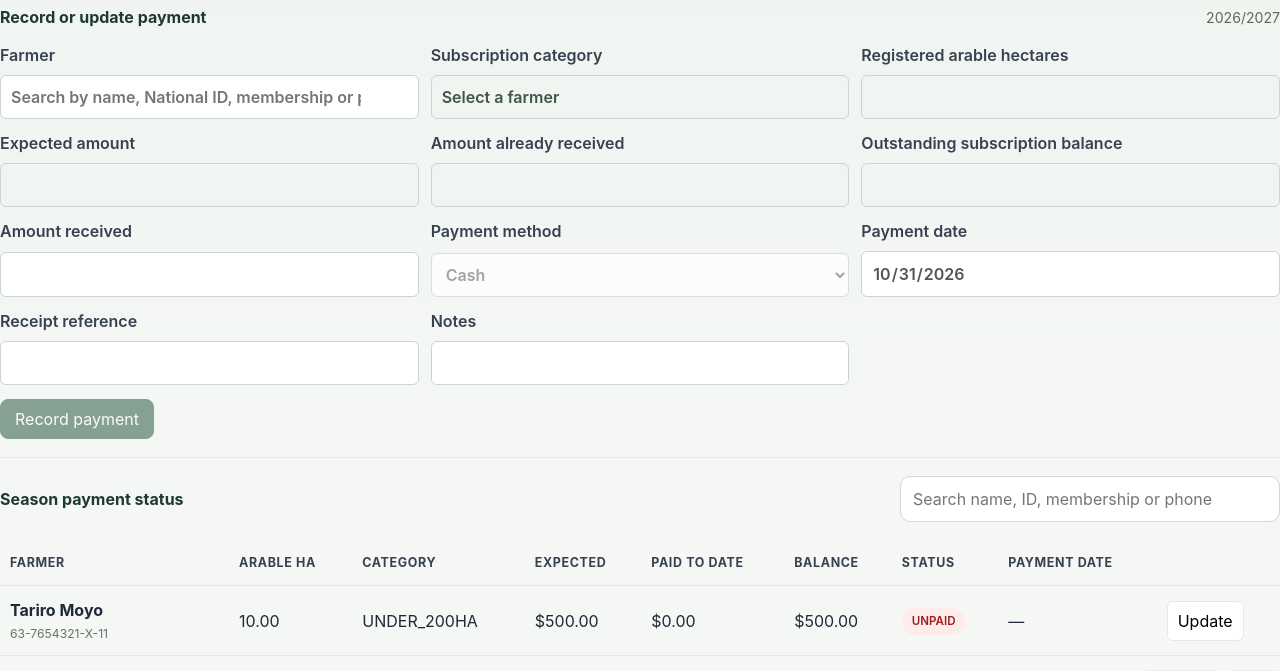
Test: SubscriptionsPage › shows derived liability and records a dated cumulative payment
(page scrolled)
Expected: the text "UNPAID" is shown, [902,608,966,635]
Expected: the field labelled "Expected amount" is empty, [0,163,419,207]
Click the button "Update" at [1205, 621], box [1167,601,1244,641]
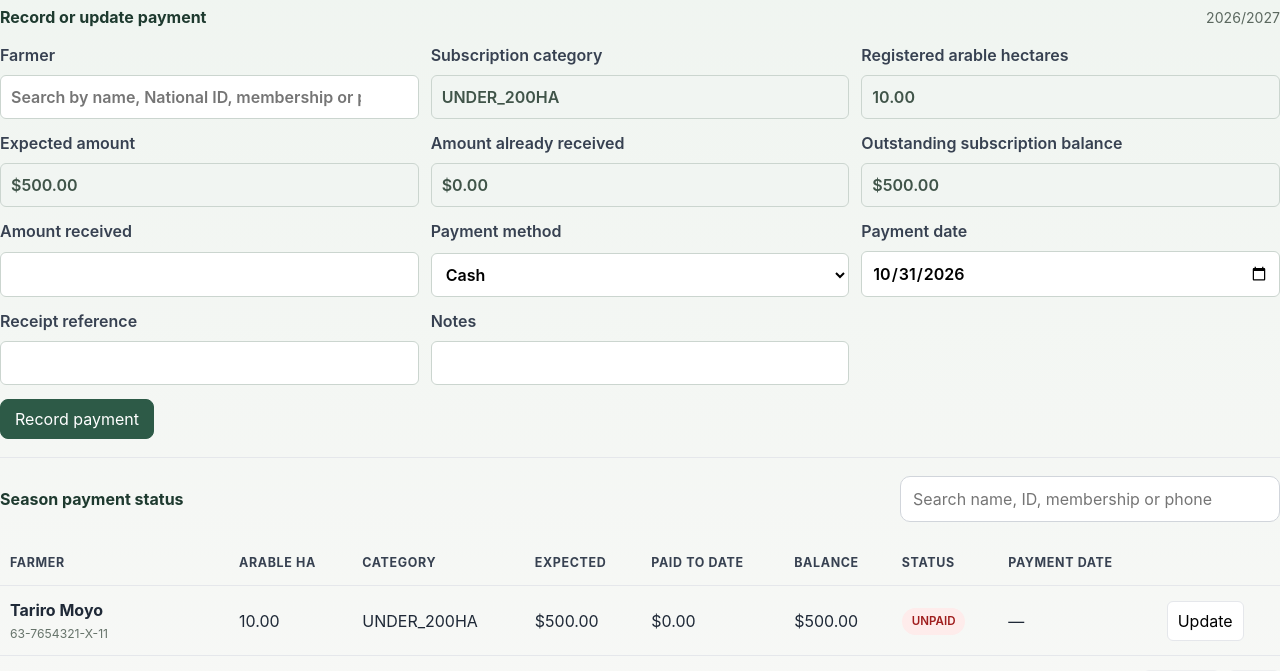
Now the field labelled "Expected amount" holds "$500.00", box [0,163,419,207]
Now the field labelled "Outstanding subscription balance" holds "$500.00", box [861,163,1279,207]
Type "120.00" into the number field labelled "Amount received" at [209, 275], box [0,252,419,297]
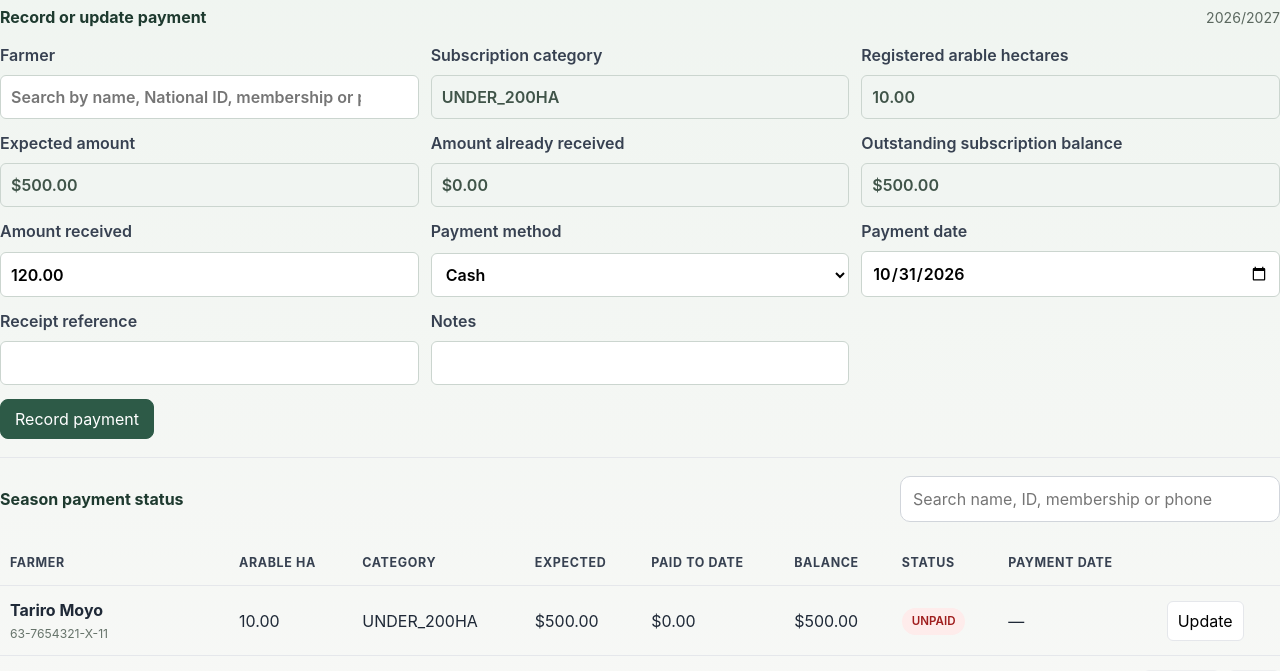
Select "Bank" in the dropdown labelled "Payment method" at [640, 275], box [431,253,849,297]
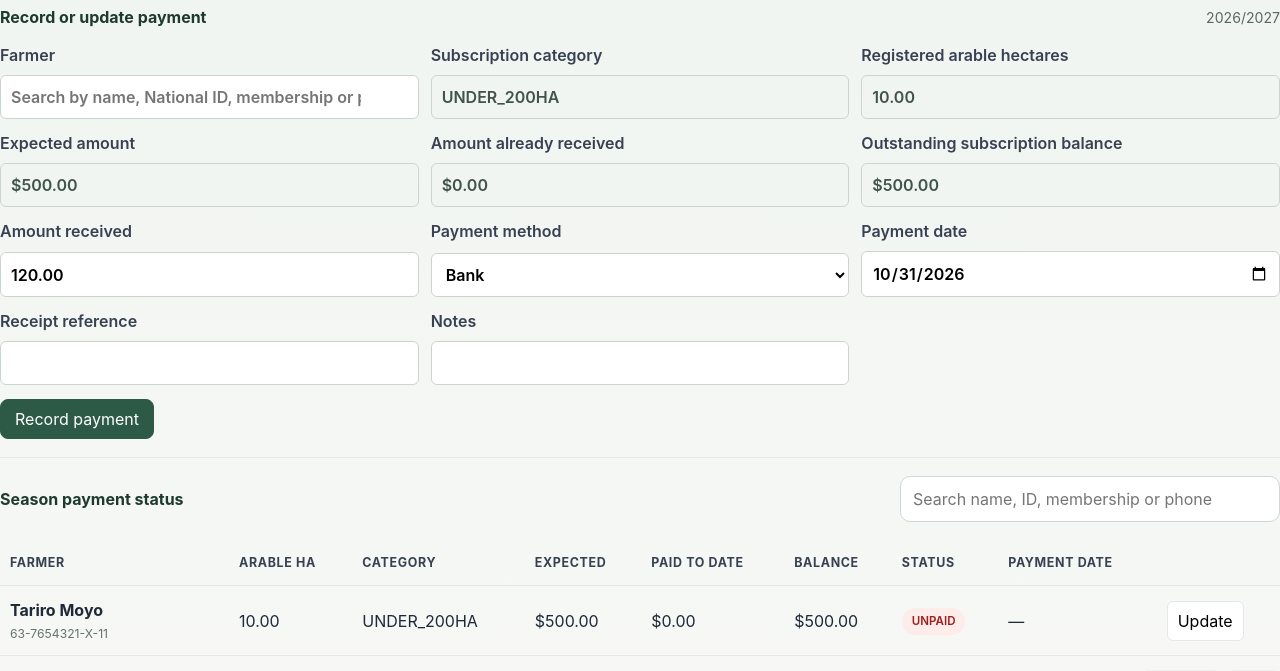
Type "2026-08-10" into the date field labelled "Payment date" at [1071, 274], box [861,251,1279,297]
(page scrolled)
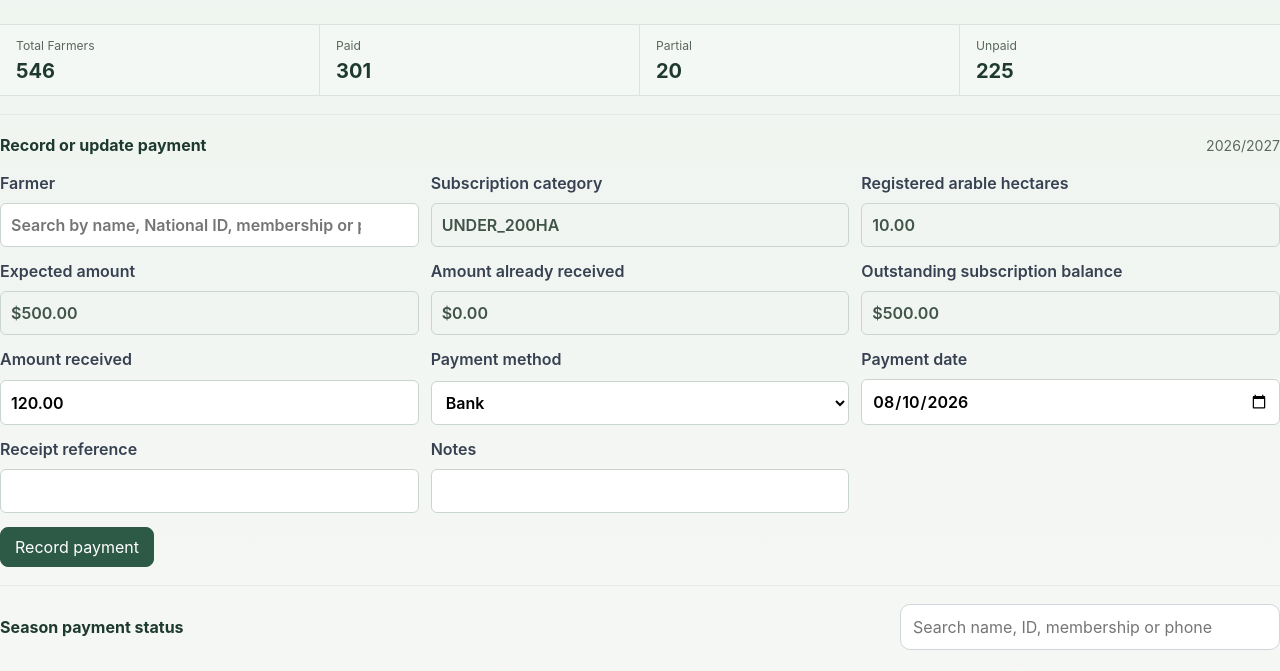
Submit the form named "Record payment"
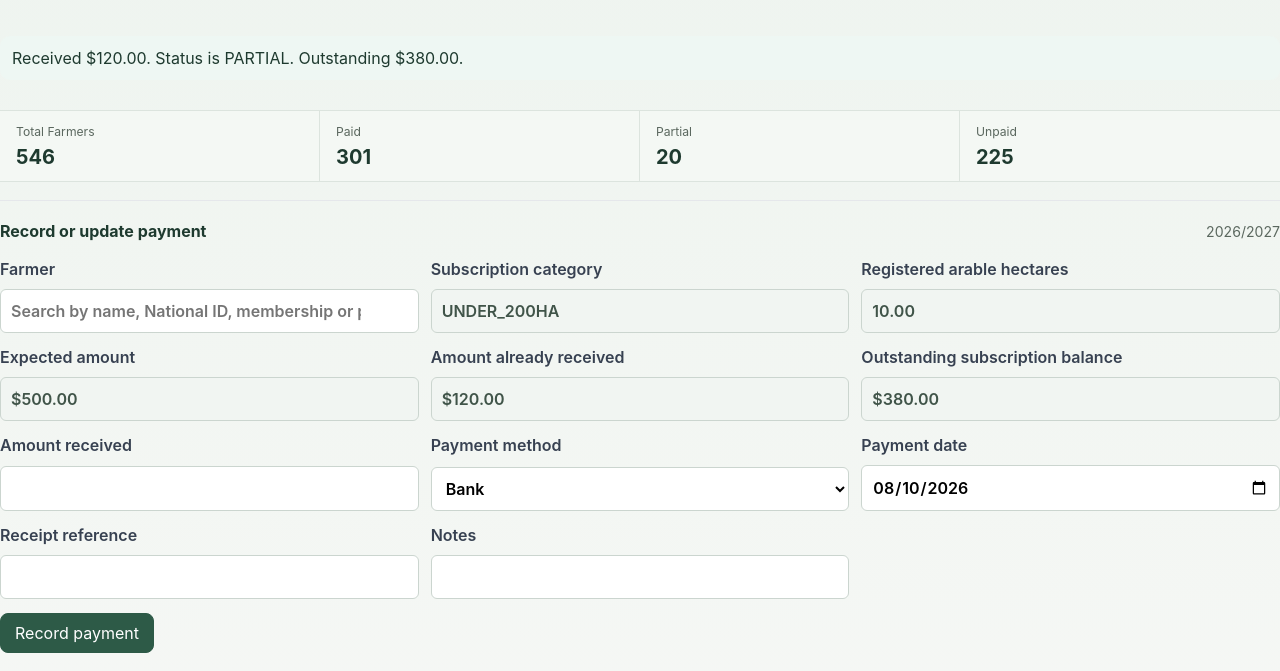
Now the text "Received $120.00. Status is PARTIAL. Outstanding $380.00." is shown, box [0,36,1279,80]
